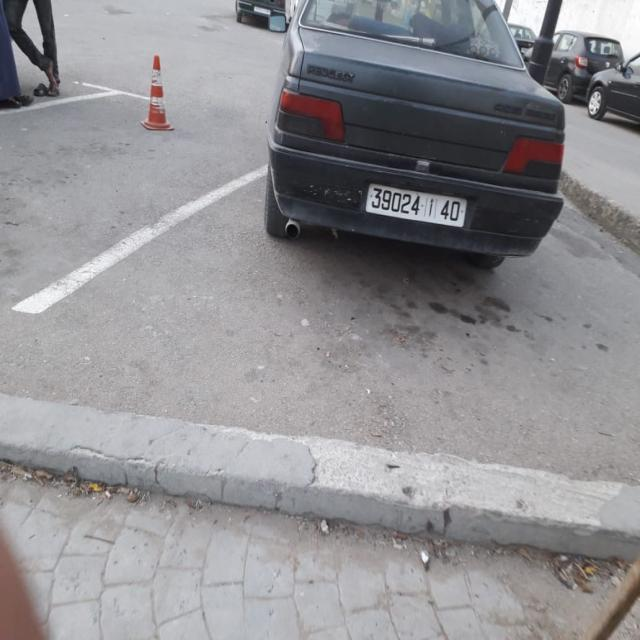License-Plate: (366, 183, 466, 227)
